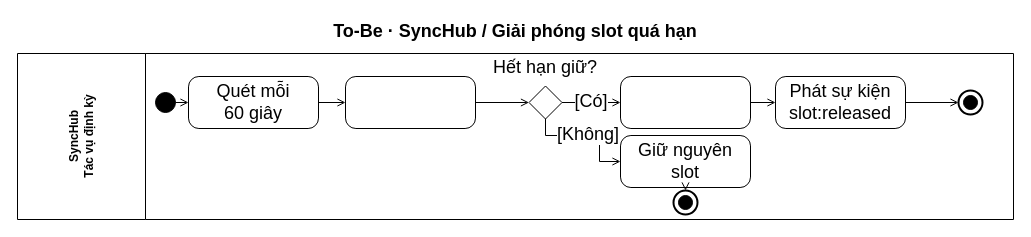
Image size: 1031x237. Some labels were removed from this diagram. Here are the shapes that lost their labels. From the top down, the centre of each, then its label:
At point 410,102: "Tìm slot LOCKED".
At point 685,102: "Trả slot về AVAILABLE".
